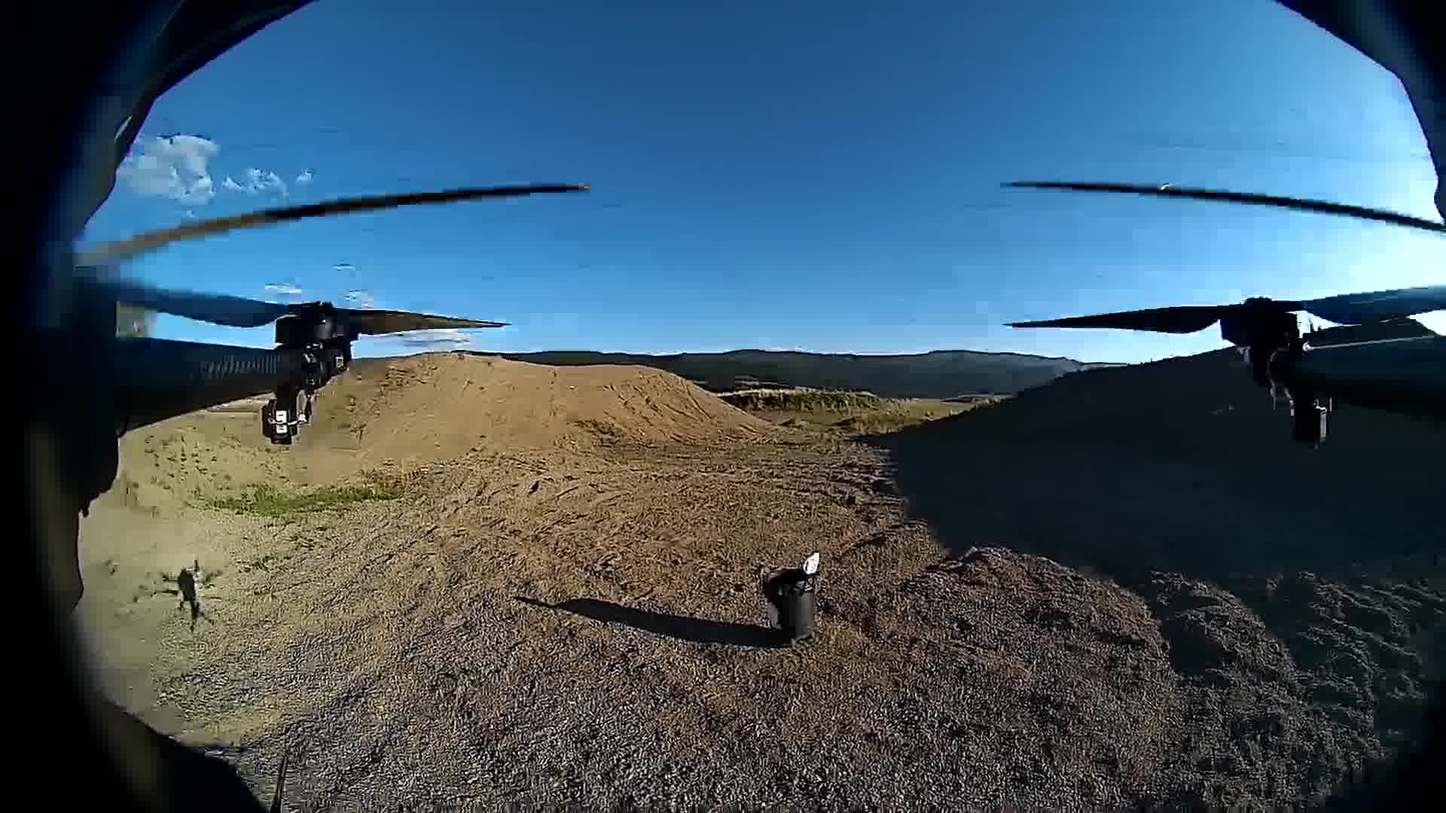Target: (799, 548, 828, 577)
